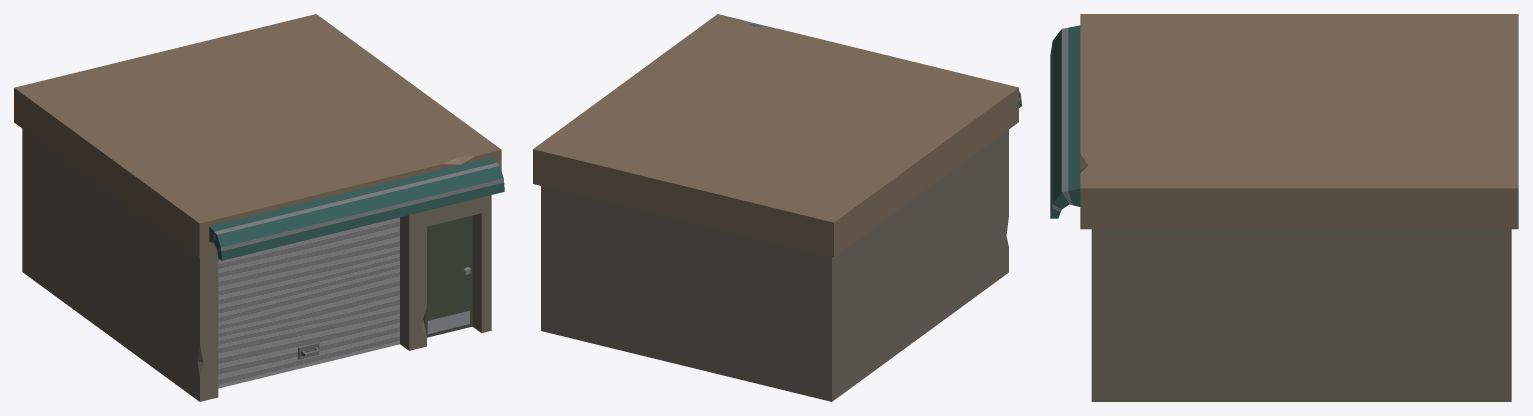
File: shop_2.glb
3 renders of one model, left to right at view 1: azimuth 30°, elevation 25°; view 2: azimuth 150°, elevation 25°; view 3: azimuth 270°, elevation 25°, orthographic. The views are drawn at different scales.
Parts seen in each view (by area): view 1: SM_Bld_Shop_06; view 2: SM_Bld_Shop_06; view 3: SM_Bld_Shop_06.
Boxes of the visible parts, <box> form: SM_Bld_Shop_06: <box>14,14,504,401</box>; SM_Bld_Shop_06: <box>533,14,1021,401</box>; SM_Bld_Shop_06: <box>1050,14,1518,401</box>.
Size of the model in its own units: 5.18 by 3 by 5.88.
1 material, 1 textured.
